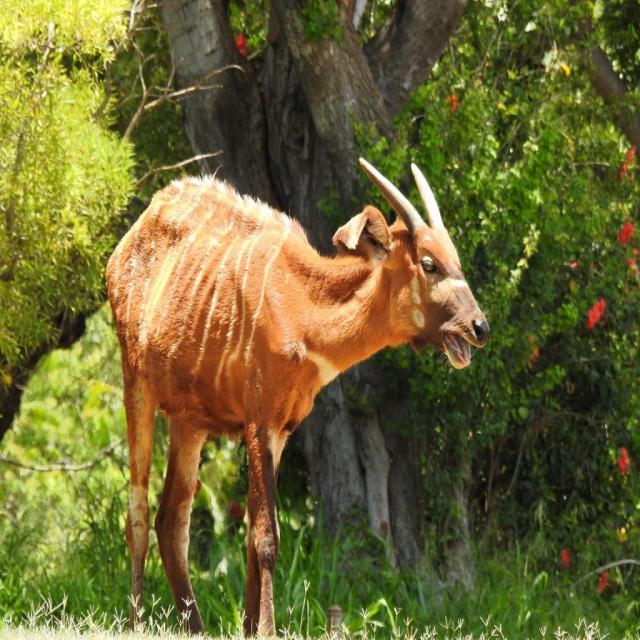Deer: (103, 156, 493, 639)
